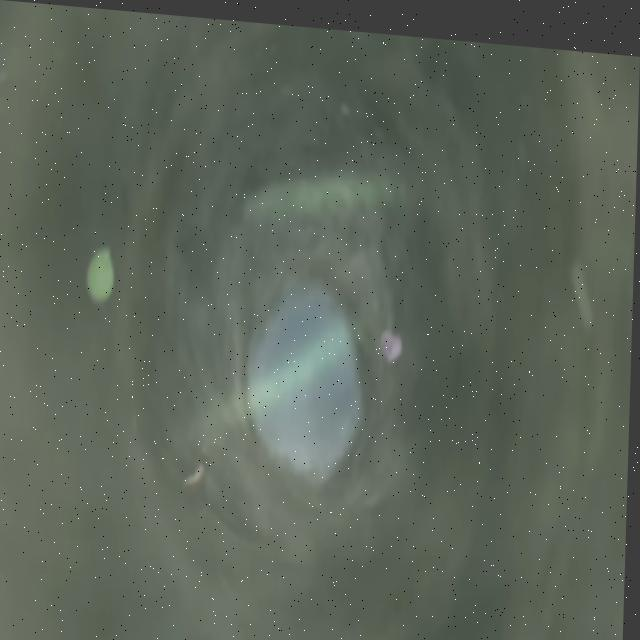balloon: (88, 245, 117, 299), (382, 320, 407, 358)
